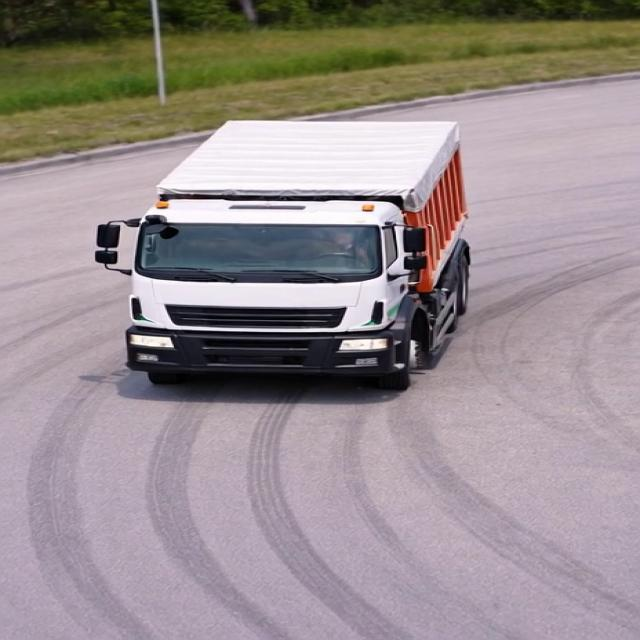Box: (144, 117, 463, 212)
Truck: (89, 94, 528, 403)
